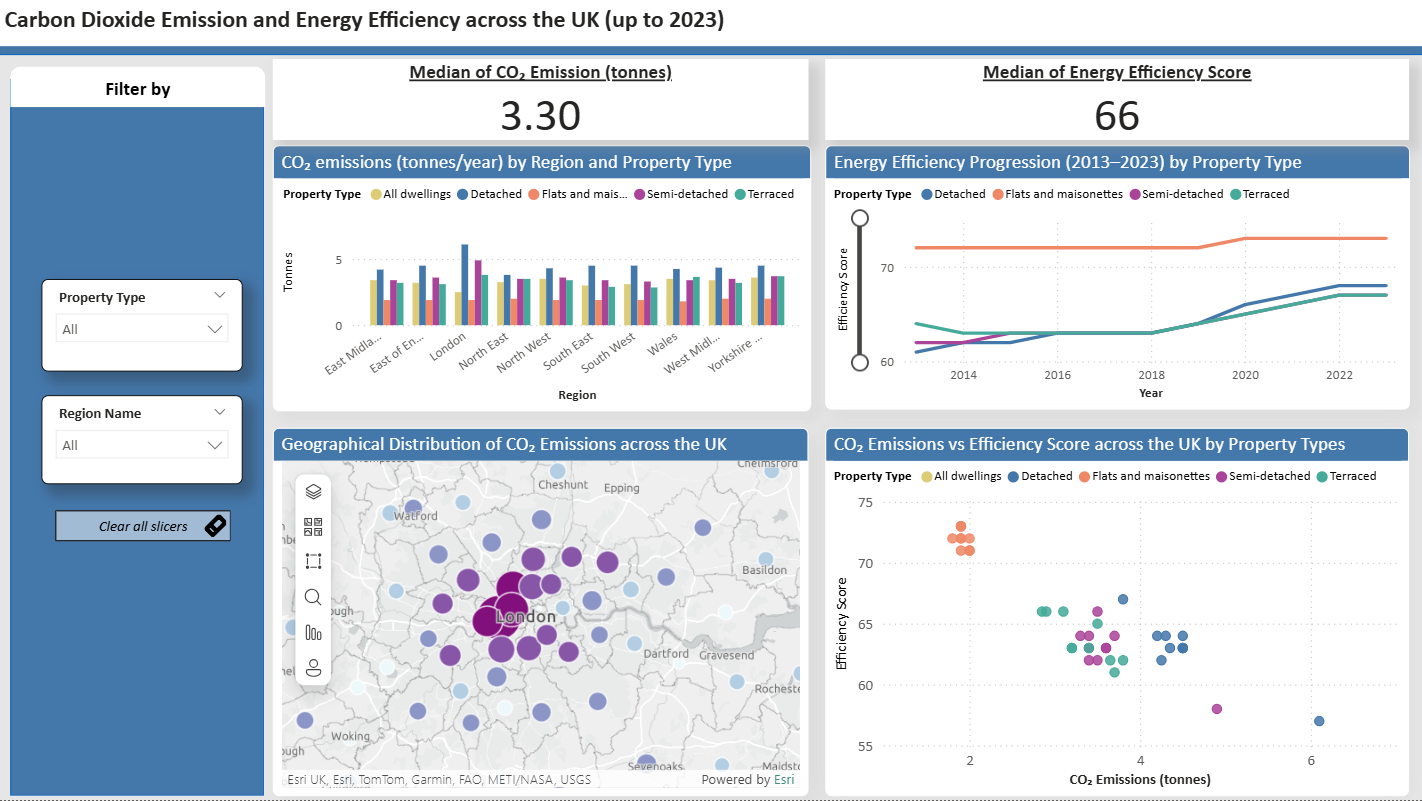

This screenshot's page, from the dashboard's own definition file:
{"tool":"powerbi","page":{"name":"Energy Efficiency in the UK","canvas":[1280,720],"ordinal":0},"visuals":[{"type":"shape","box":[0,22.2,1280,27.9],"z":0},{"type":"shape","box":[10.6,72.2,228.3,644.3],"z":1000},{"type":"slicer","fields":{"Values":["dim_Property Type.Property Type"]},"box":[38.5,251.4,181.1,82.8],"z":2000},{"type":"slicer","fields":{"Values":["dimRegion.Country or region name"]},"box":[831.6,436.6,327.8,73.9],"z":3000},{"type":"clusteredColumnChart","title":"CO₂  emissions (tonnes/year) by Region and Property Type","fields":{"Y":["Median(CO2 Emission in Local District.CO2 emissions (tonnes/year))"],"Category":["CO2 Emission in Local District.Region name"],"Series":["CO2 Emission in Local District.Property Type"]},"box":[245.8,131.7,483.6,239.1],"z":4000},{"type":"lineChart","title":"Energy Efficiency Progression (2013–2023) by Property Type","fields":{"Category":["Energy efficiency score by property type, by country and region, England and Wales, five rolling years up to Q2 2018 to ","Energy efficiency score by property type, by country and region, England and Wales, five rolling years up to Q2 2018 to ","Energy efficiency score by property type, by country and region, England and Wales, five rolling years up to Q2 2018 to ","Energy efficiency score by property type, by country and region, England and Wales, five rolling years up to Q2 2018 to "],"Y":["Median(Energy efficiency score by property type, by country and region, England and Wales, five rolling years up to Q2 2018"],"Series":["Energy efficiency score by property type, by country and region, England and Wales, five rolling years up to Q2 2018 to "]},"box":[742.9,131.7,525.3,237.8],"z":5000},{"type":"esriVisual","title":"Geographical Distribution of CO₂ Emissions across the UK","fields":{"Location":["CO2 Emission in Local District.Local authority district name"],"Size":["Median(CO2 Emission in Local District.CO2 emissions (tonnes/year))"],"Color":["Median(CO2 Emission in Local District.CO2 emissions (tonnes/year))"]},"box":[246.3,385.7,481.8,331.6],"z":6000},{"type":"scatterChart","title":"CO₂ Emissions vs Efficiency Score across the UK by Property Types","fields":{"Y":["Median(Energy efficiency score.Efficiency Score)"],"Series":["dim_Property Type.Property Type"],"Category":["dimRegion.Country or region name"],"X":["Median(CO2 Emission in Local District.CO2 emissions (tonnes/year))"]},"box":[743,385.7,525.1,331.6],"z":7000},{"type":"actionButton","box":[50.1,459.4,158,27.9],"z":8000},{"type":"textbox","box":[0,0,1280,42.4],"z":9000},{"type":"slicer","fields":{"Values":["MD_Region.Country or region name"]},"box":[38.5,356.4,181.1,79.9],"z":10000},{"type":"shape","box":[10.6,60.7,229.2,36.6],"z":11000},{"type":"card","title":"Median of CO₂ Emission (tonnes)","fields":{"Values":["Median(CO2 Emission in Local District.CO2 emissions (tonnes/year))"]},"box":[246.6,53.9,481.6,73.2],"z":12000},{"type":"card","title":"Median of Energy Efficiency Score","fields":{"Values":["Median(Energy efficiency score.Efficiency Score)"]},"box":[742.6,53.9,524.9,73.2],"z":13000}]}

Visuals, with their boxes in screenshot pixels (x1, y1, x2, y2), scaled from the page's 1280x720 canvas onto the 1422x801 screenshot:
shape: rect(0, 25, 1421, 56)
shape: rect(12, 80, 265, 797)
slicer - dim_Property Type.Property Type: rect(43, 280, 244, 372)
slicer - dimRegion.Country or region name: rect(924, 486, 1288, 568)
"CO₂  emissions (tonnes/year) by Region and Property Type" clusteredColumnChart: rect(273, 147, 810, 413)
"Energy Efficiency Progression (2013–2023) by Property Type" lineChart: rect(825, 147, 1409, 411)
"Geographical Distribution of CO₂ Emissions across the UK" esriVisual: rect(274, 429, 809, 798)
"CO₂ Emissions vs Efficiency Score across the UK by Property Types" scatterChart: rect(825, 429, 1409, 798)
actionButton: rect(56, 511, 231, 542)
textbox: rect(0, 0, 1421, 47)
slicer - MD_Region.Country or region name: rect(43, 396, 244, 485)
shape: rect(12, 68, 266, 108)
"Median of CO₂ Emission (tonnes)" card: rect(274, 60, 809, 141)
"Median of Energy Efficiency Score" card: rect(825, 60, 1408, 141)
